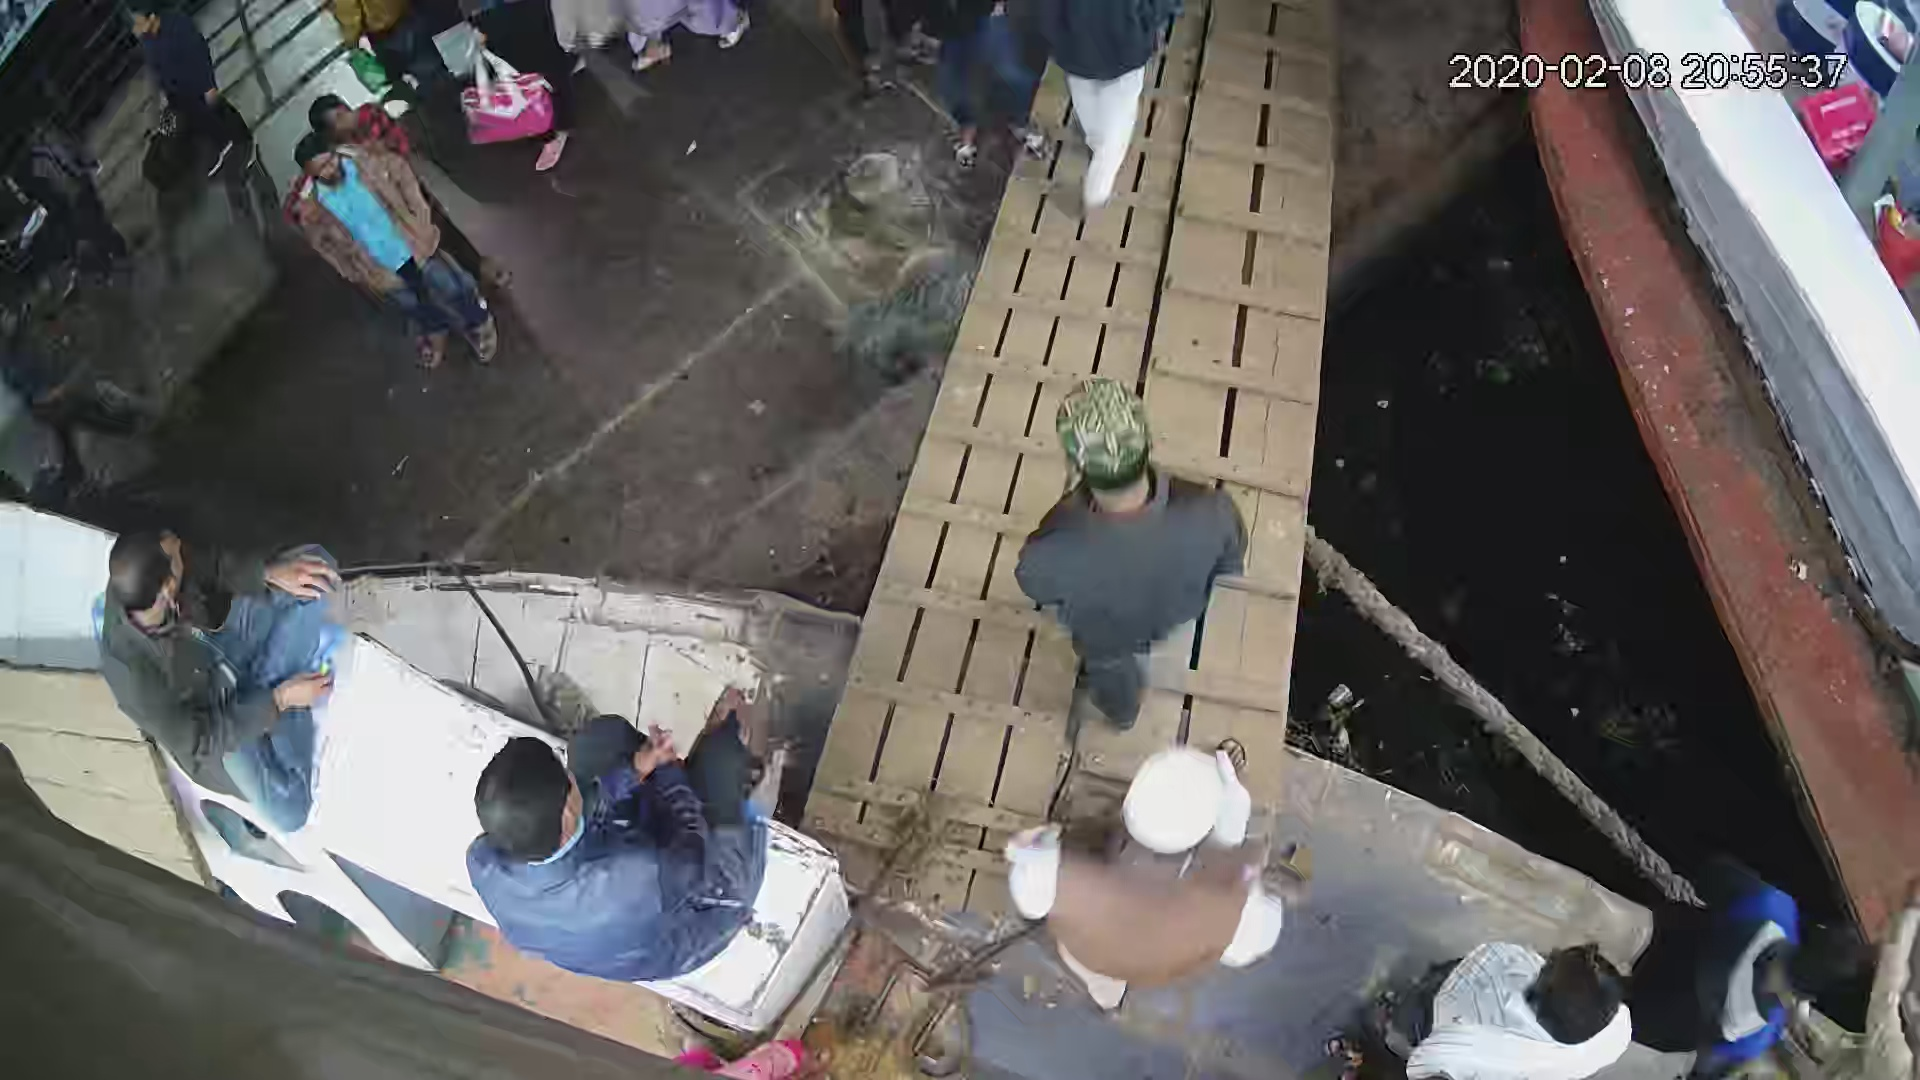person: (461, 676, 773, 990), (1003, 368, 1250, 726), (92, 516, 340, 838), (1000, 750, 1287, 1024), (288, 136, 505, 379), (1629, 849, 1854, 1068), (1360, 937, 1634, 1079), (1033, 1, 1178, 215), (117, 1, 271, 184), (926, 1, 1051, 171)
